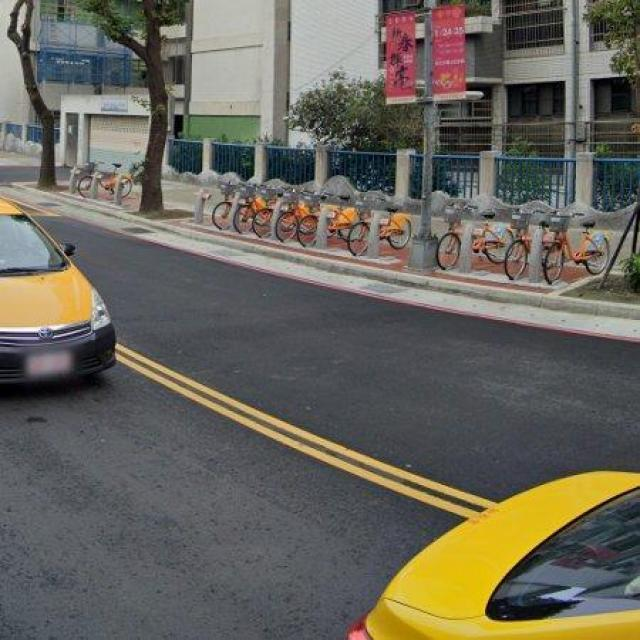bicycle: (545, 220, 613, 285), (475, 213, 532, 281), (331, 207, 372, 257), (280, 203, 321, 248), (236, 193, 273, 238), (381, 212, 414, 251), (439, 216, 462, 271), (77, 172, 117, 198), (213, 188, 236, 230), (122, 177, 133, 198)
